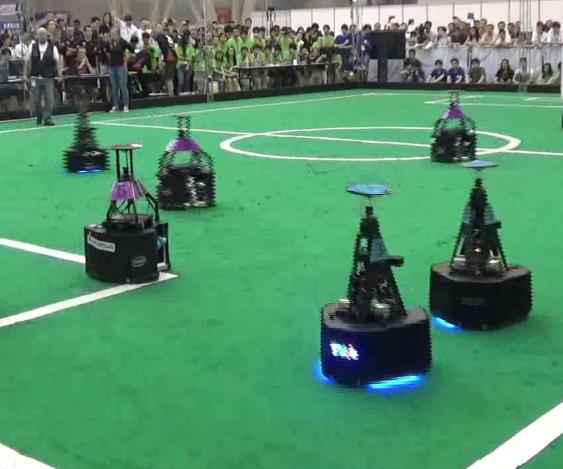robot: (311, 183, 435, 389), (427, 157, 537, 334), (77, 145, 175, 287), (152, 108, 218, 214), (423, 86, 481, 162), (59, 99, 110, 178)
